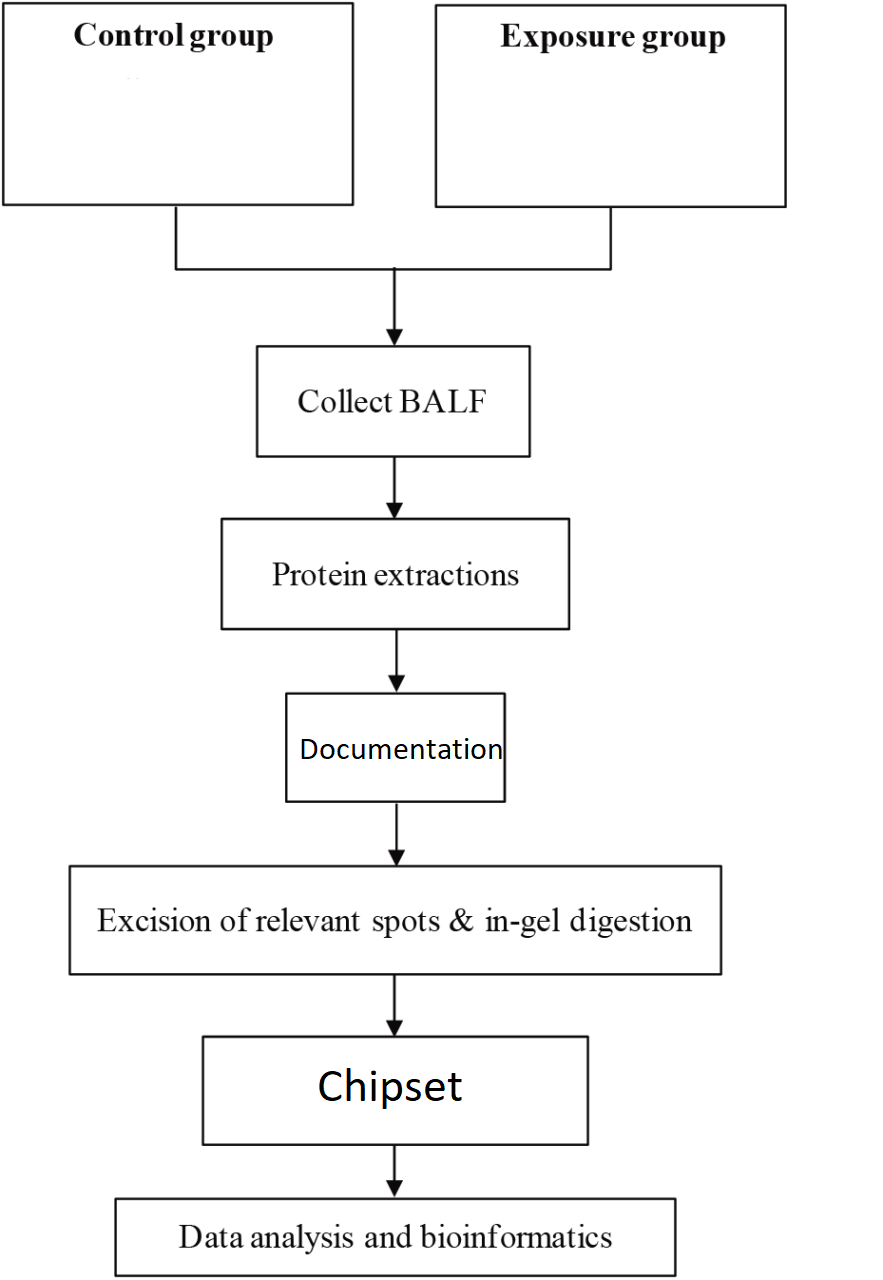arrow: (168, 209, 405, 348), (383, 207, 617, 342), (383, 637, 409, 688), (381, 1147, 405, 1202), (389, 802, 407, 863), (385, 980, 405, 1033), (385, 458, 403, 515)
process: (64, 857, 727, 980), (430, 1, 791, 211), (1, 1, 358, 209), (199, 1031, 595, 1151), (109, 1198, 685, 1280), (219, 514, 578, 635), (252, 340, 536, 462), (278, 690, 511, 806)
text: (93, 904, 701, 943), (178, 1217, 617, 1259), (272, 559, 523, 598), (493, 18, 730, 56), (70, 14, 278, 54), (291, 383, 489, 422), (315, 1066, 468, 1110), (299, 733, 507, 765)
